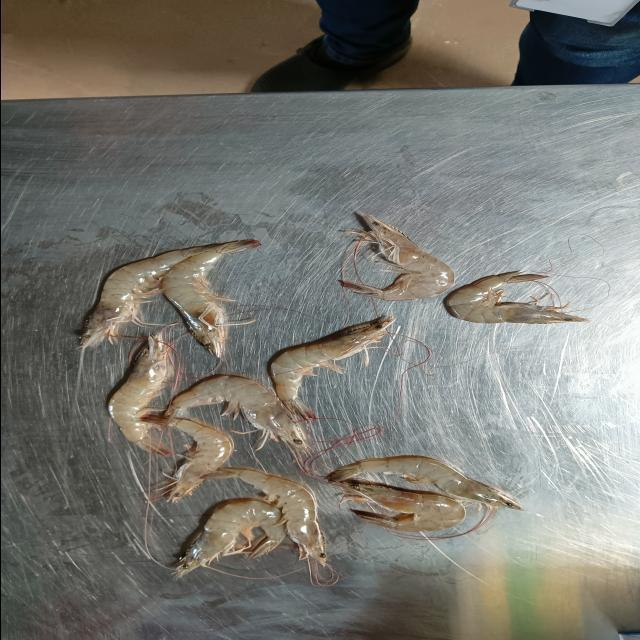shrimp: (80, 244, 224, 348), (270, 316, 394, 420), (202, 468, 326, 566), (160, 240, 259, 358), (164, 374, 310, 452), (326, 455, 523, 510), (341, 212, 454, 301), (175, 498, 286, 578), (142, 416, 233, 502), (109, 334, 173, 456), (445, 271, 587, 324), (337, 480, 465, 531)
